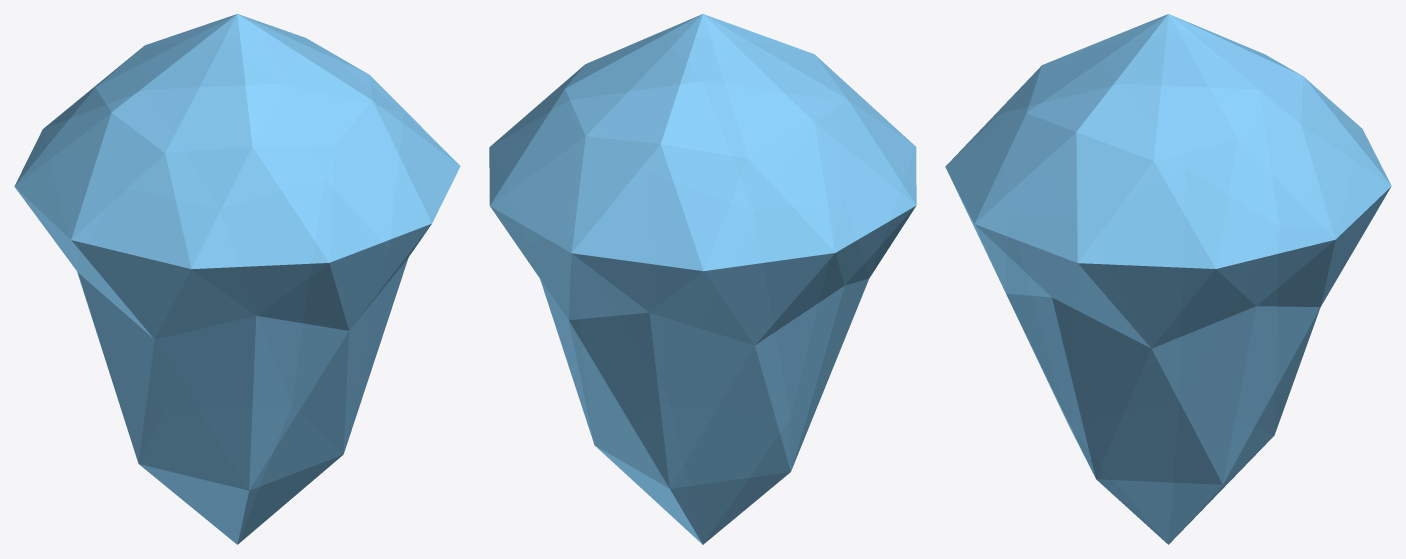
Rendered from crystal.fbx.
3 views of the same model, side by side, from view 1: azimuth 30°, elevation 25°; view 2: azimuth 150°, elevation 25°; view 3: azimuth 270°, elevation 25° (orthographic).
Visible parts, largest first — view 1: Icosphere; view 2: Icosphere; view 3: Icosphere.
Part boxes in pixels (box(x1,y1,x2,y2)): Icosphere: box(14, 14, 460, 544); Icosphere: box(489, 14, 916, 544); Icosphere: box(945, 14, 1391, 544).
Size of the model in its own units: 96.18 by 128 by 97.88.
